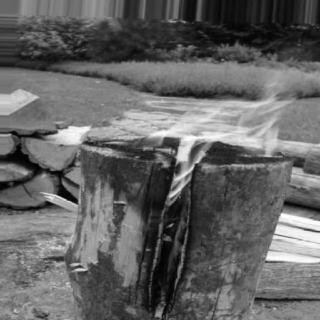Fire: (106, 73, 288, 300)
